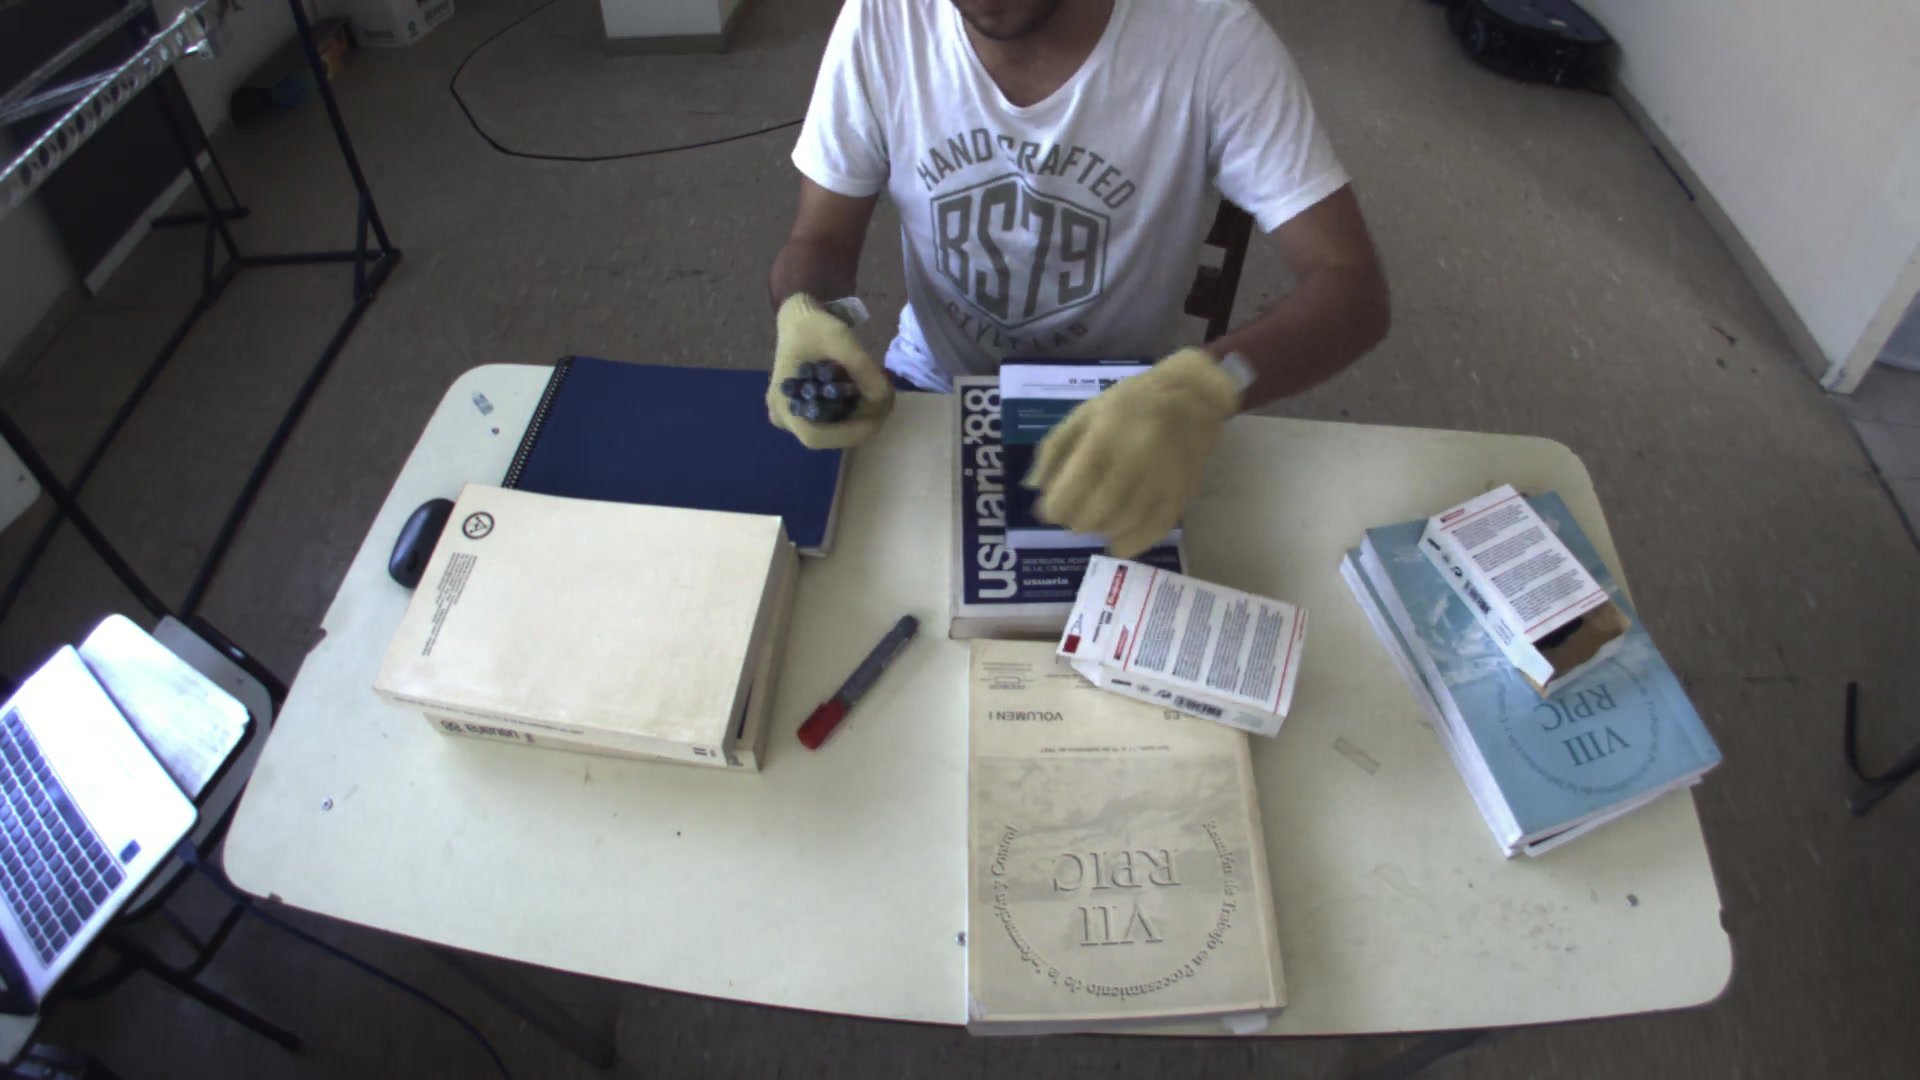hand: (1025, 336, 1255, 560), (754, 282, 898, 448)
